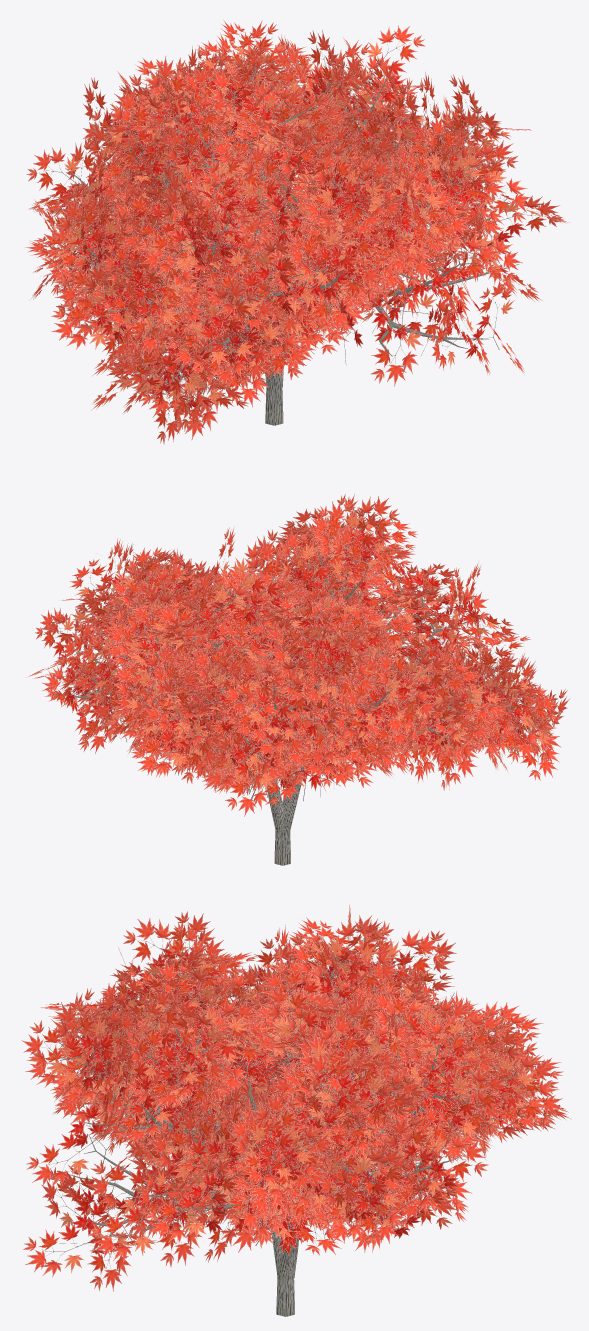
Rendered from Tree_3_1.glb.
3 renders of one model, top to bottom at view 1: azimuth 30°, elevation 25°; view 2: azimuth 150°, elevation 25°; view 3: azimuth 270°, elevation 25°, orthographic. The views are drawn at different scales.
Visible parts, largest first — view 1: Tree_3_V1; view 2: Tree_3_V1; view 3: Tree_3_V1.
Part boxes in pixels (box(x1,y1,x2,y2)): Tree_3_V1: box(25, 20, 570, 444); Tree_3_V1: box(26, 493, 570, 865); Tree_3_V1: box(21, 904, 571, 1316).
Bounding box in the file's own units: 4.43 × 3.08 × 4.04.
1 material, 1 textured.
